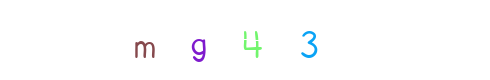3: (270, 0, 350, 80)
4: (212, 0, 292, 80)
G: (205, 0, 285, 80)
M: (131, 0, 211, 80)
